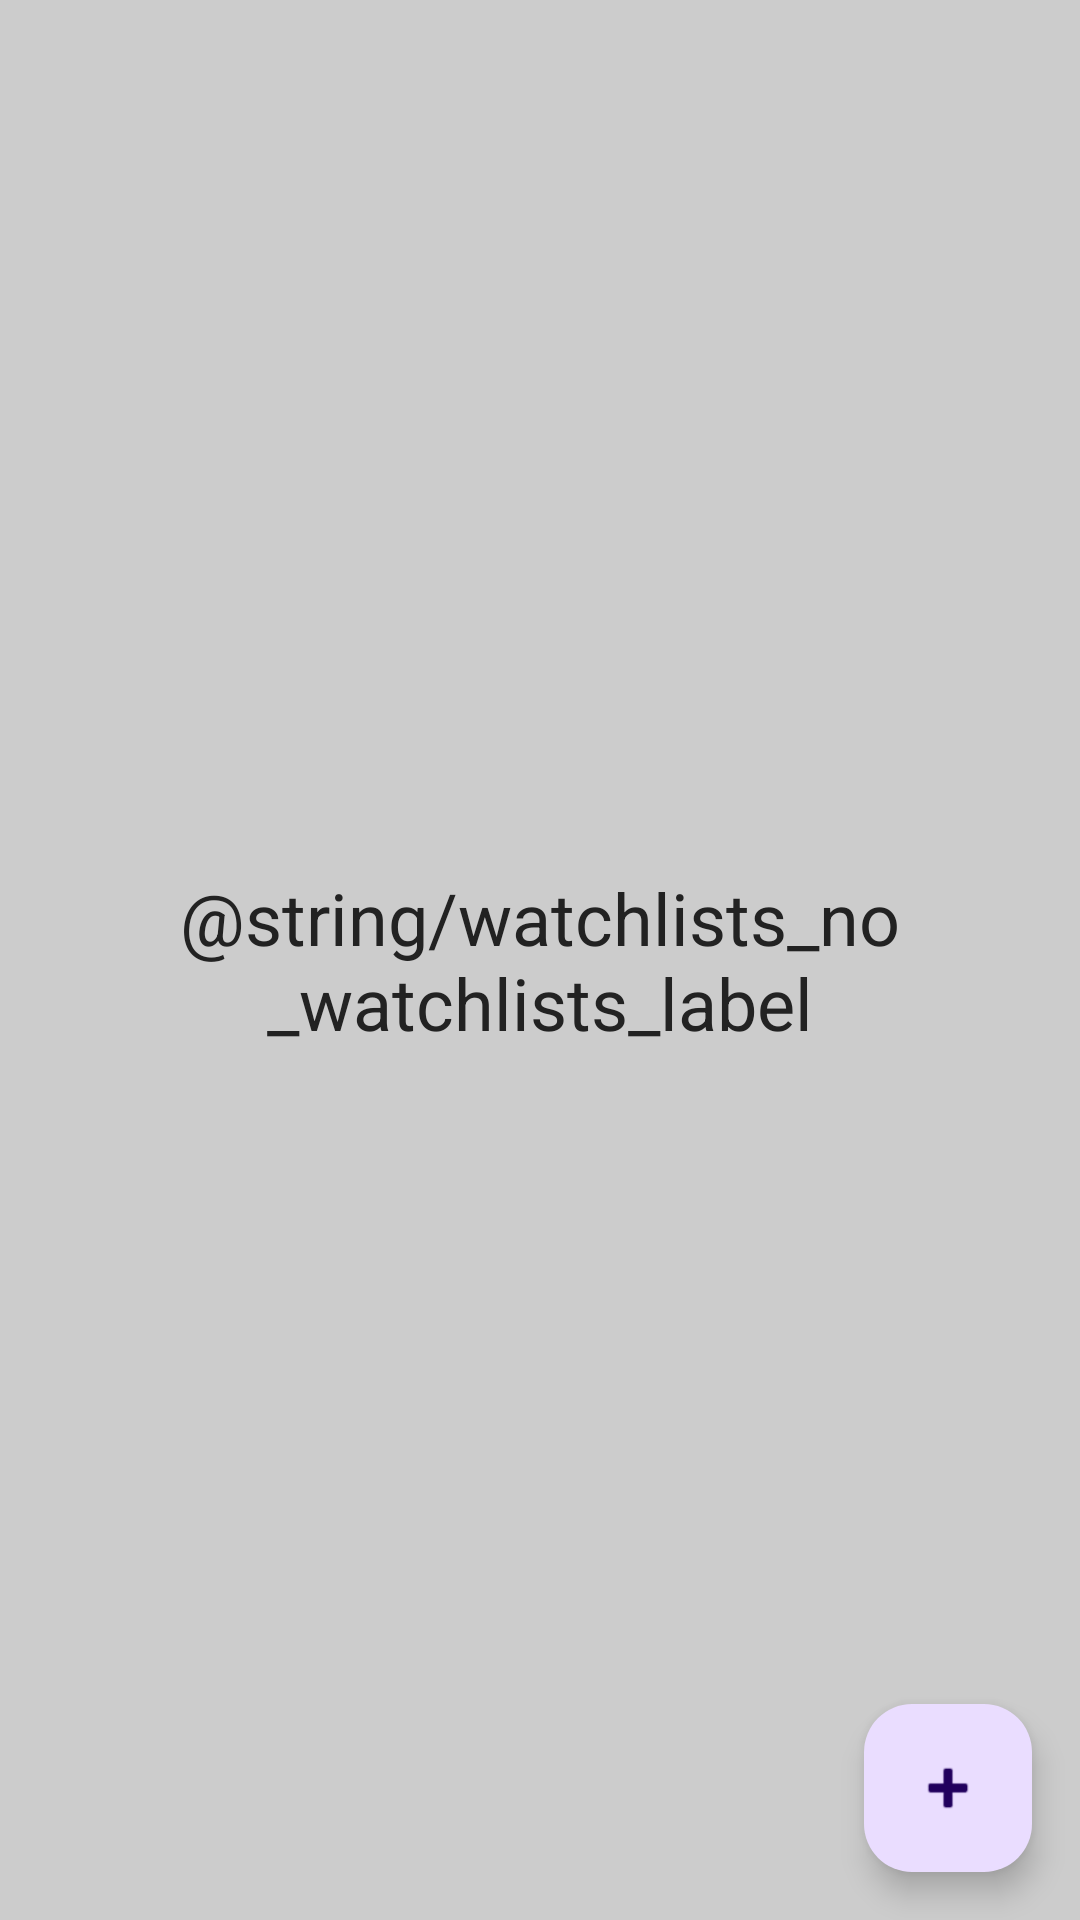

Point at icon controls on the screen. Image size 1080px×1920px, points as (x,y).
Button used to create a new watchlist: (948,1788)
